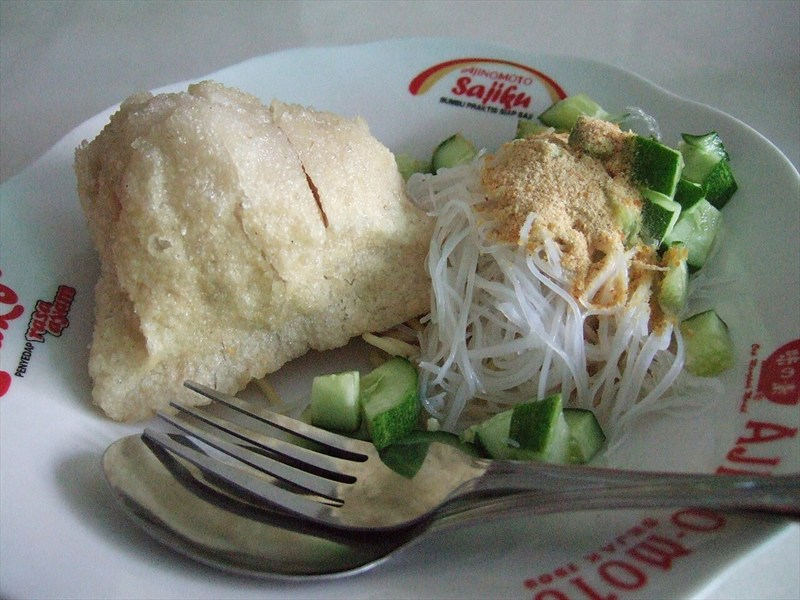Pempek: (117, 79, 733, 556)
